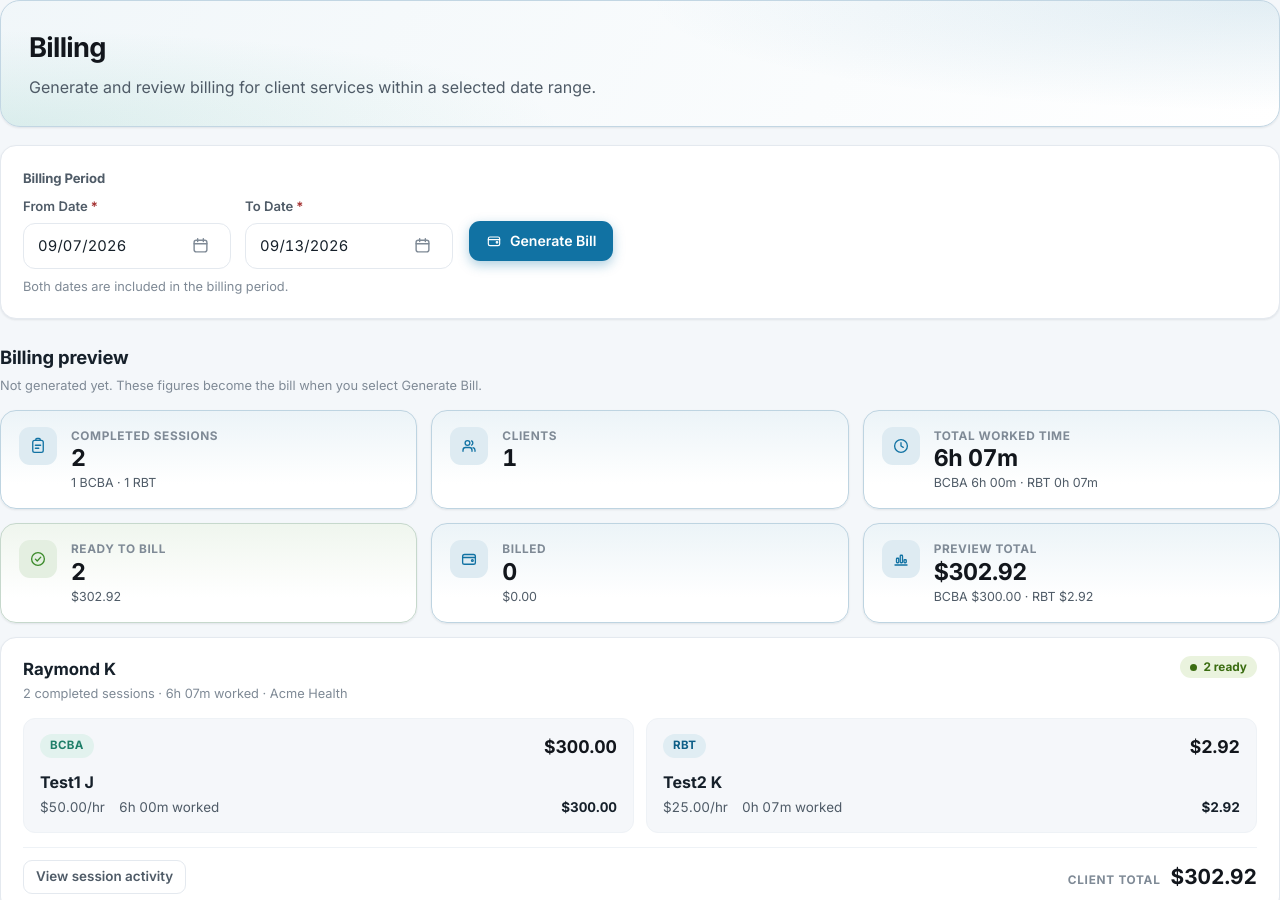
it: Insurance Billing page › an already generated period returns the existing bill — no duplicate
Step 1. Click the button "Generate Bill" → (541,241), box [469, 221, 613, 261]
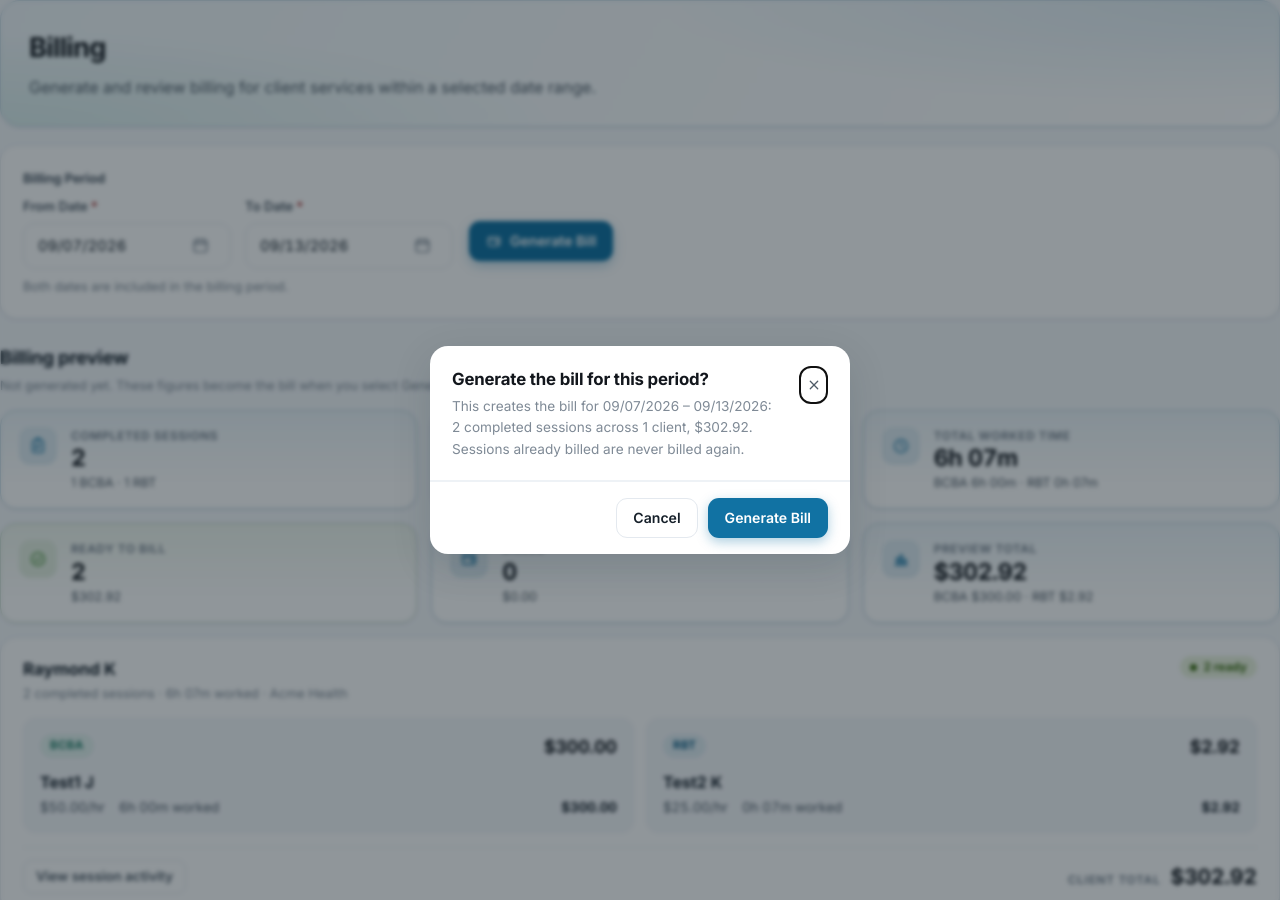
Step 2. Click the button "Generate Bill" → (768,518), box [708, 498, 828, 538]
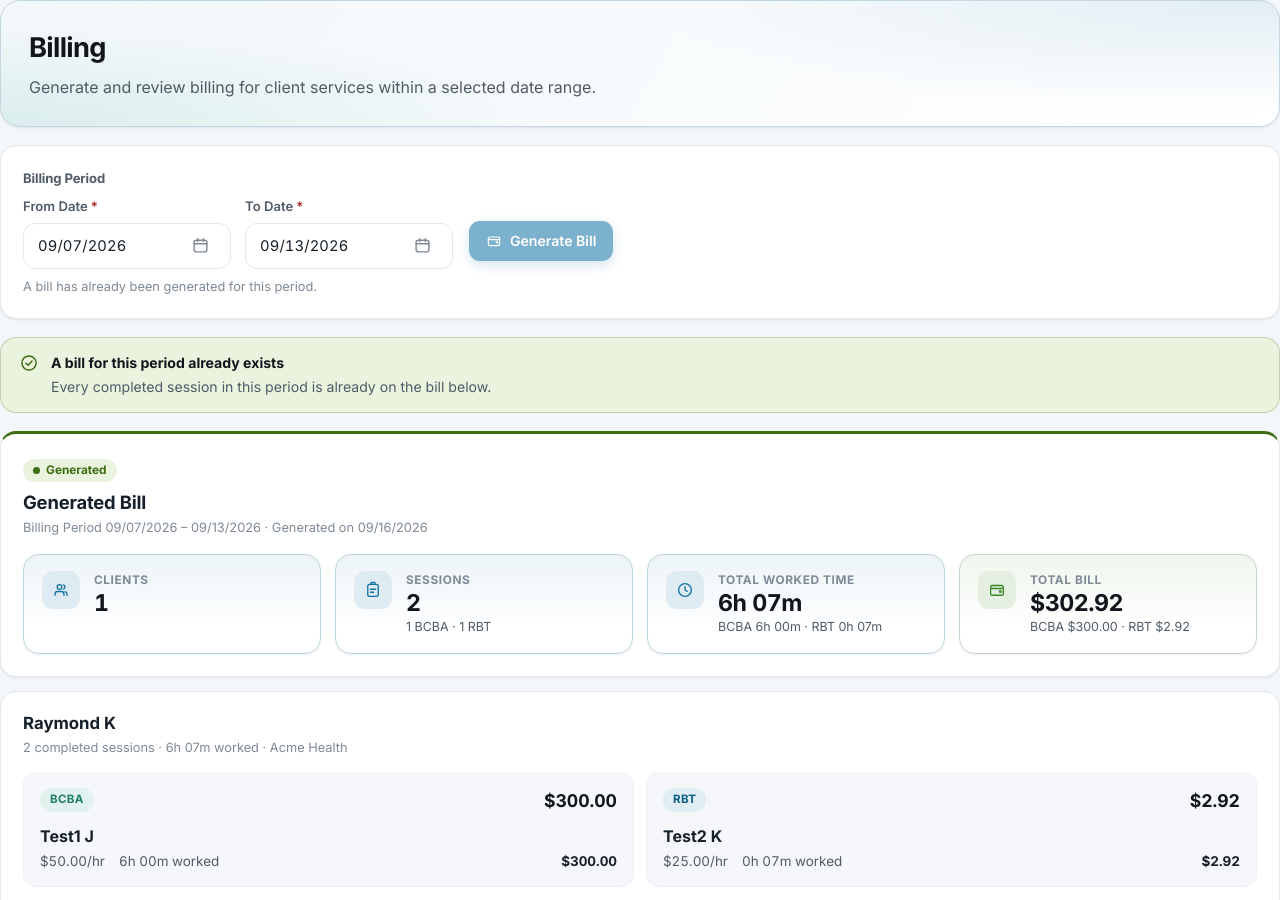
Result: the message with class "rx-ib__run" shows "A bill for this period already exists" at [51, 354, 284, 372]
Result: the heading with id "ib-generated" reads "Generated Bill" at [23, 491, 146, 513]
